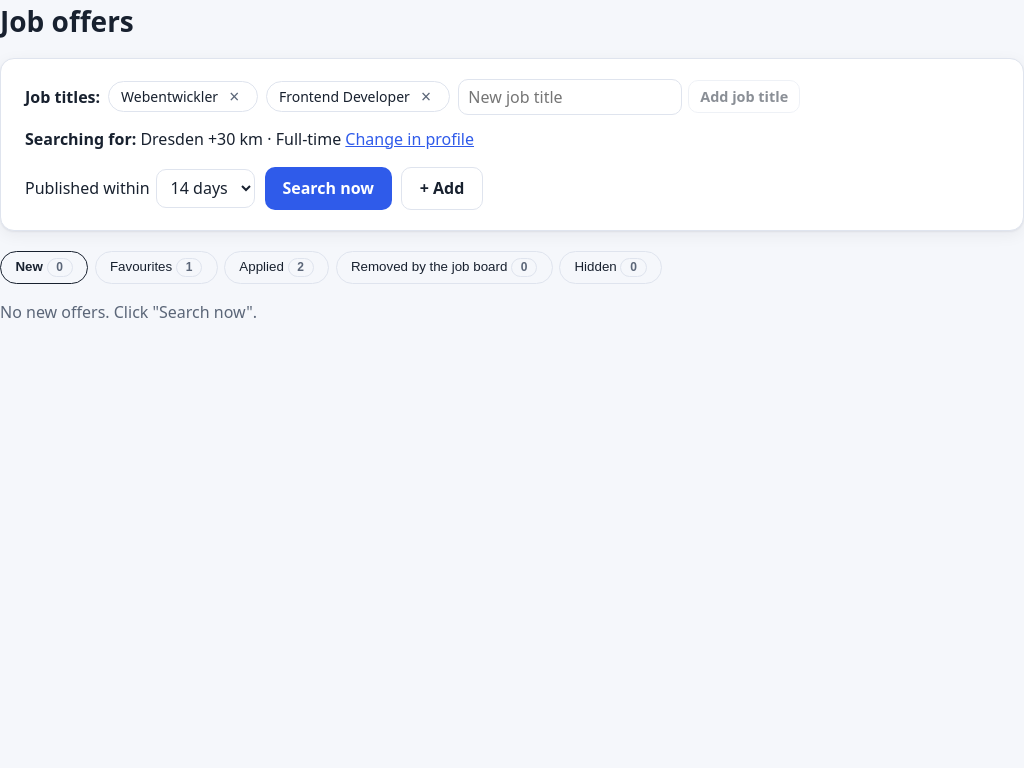
Test: VacanciesPage — strip and empty states › 9b: vacancies with a sent / site-submitted package sit in "Applied" with a dated badge, not in New/Favourites
The width and height of the screenshot is (1024, 768).
Expected: the tab "New 0" is shown, [0, 251, 88, 284]
Expected: the tab "Favourites 1" is shown, [95, 251, 218, 284]
Click the tab "Applied 2".
click(277, 267)  # box [224, 251, 329, 284]
(page scrolled)
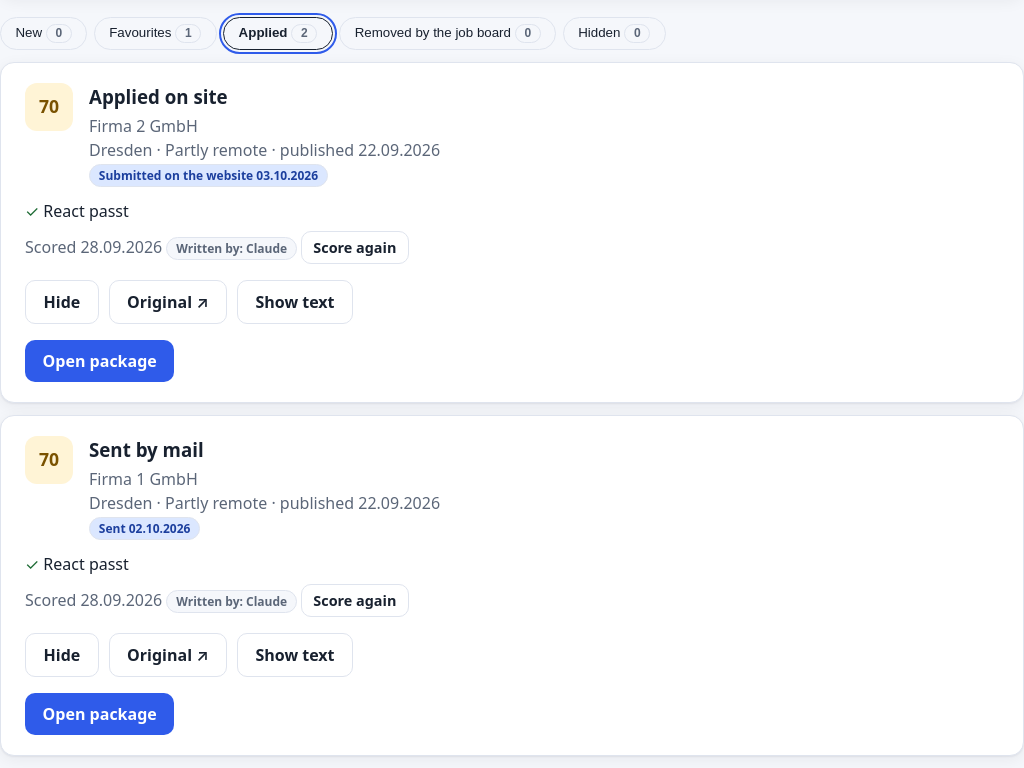
Expected: the element that starts with "Applied on site" shows "Submitted on the website 03.10.2026", [99, 166, 318, 184]
Expected: the element that starts with "Sent by mail" shows "Sent 02.10.2026", [99, 520, 190, 536]
